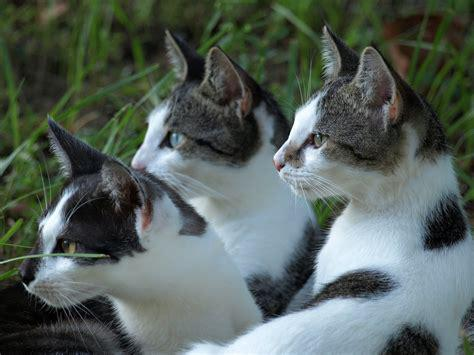cat: (187, 28, 474, 355), (1, 117, 264, 355), (130, 28, 321, 315)
